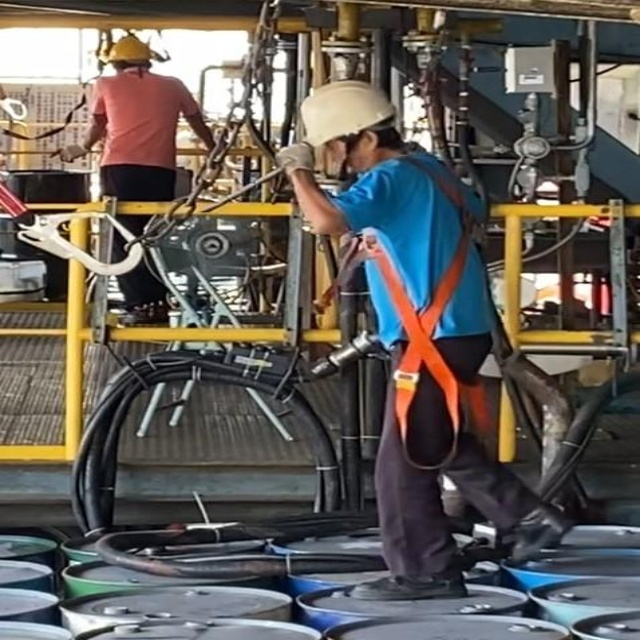Arnes_seguridad: (325, 147, 495, 463)
